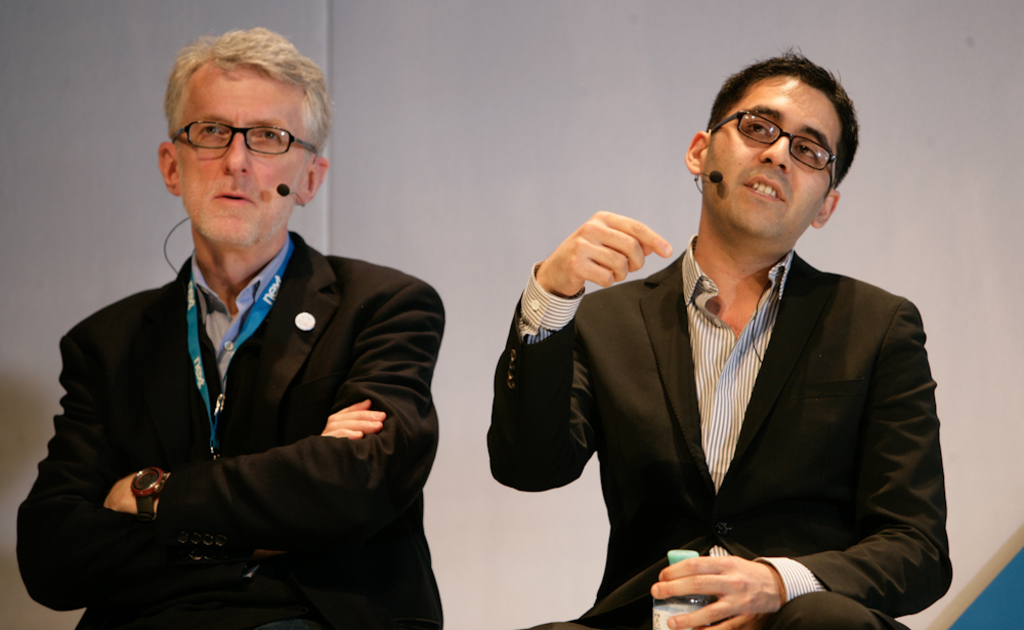Human-face: (176, 70, 303, 250), (711, 79, 811, 237)
